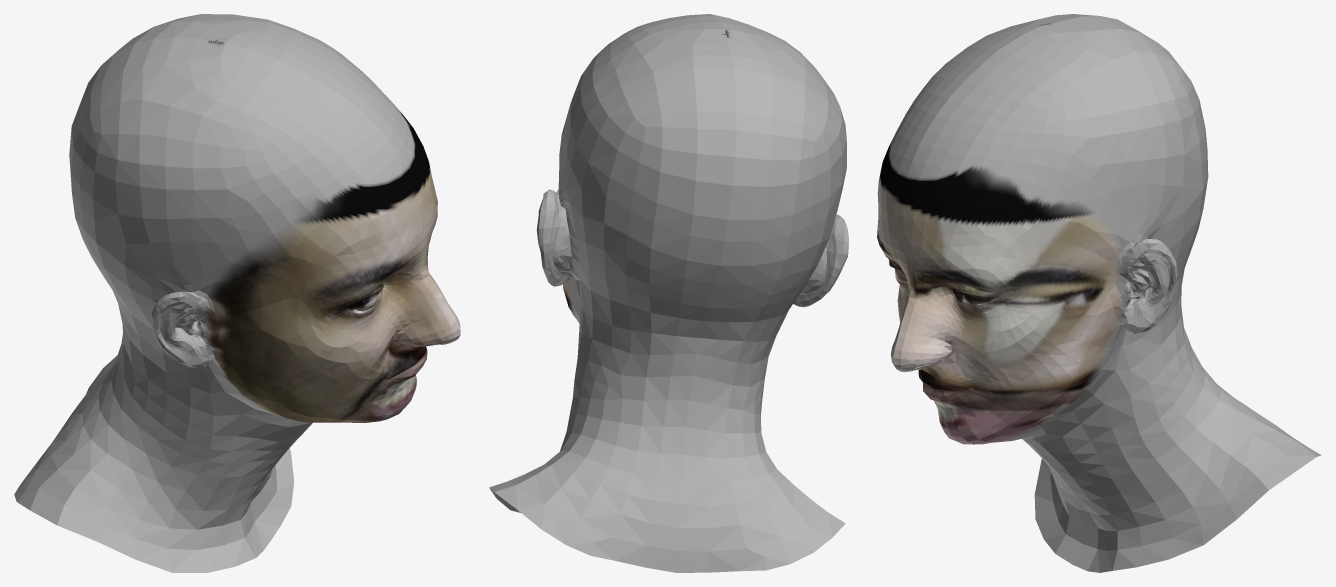
File: ezgif-frame-050.obj
3 views of the same model, side by side, from view 1: azimuth 30°, elevation 25°; view 2: azimuth 150°, elevation 25°; view 3: azimuth 270°, elevation 25° (orthographic). The views are drawn at different scales.
Size of the model in its own units: 0.2066 by 0.3205 by 0.2516.
1 material, 1 textured.
